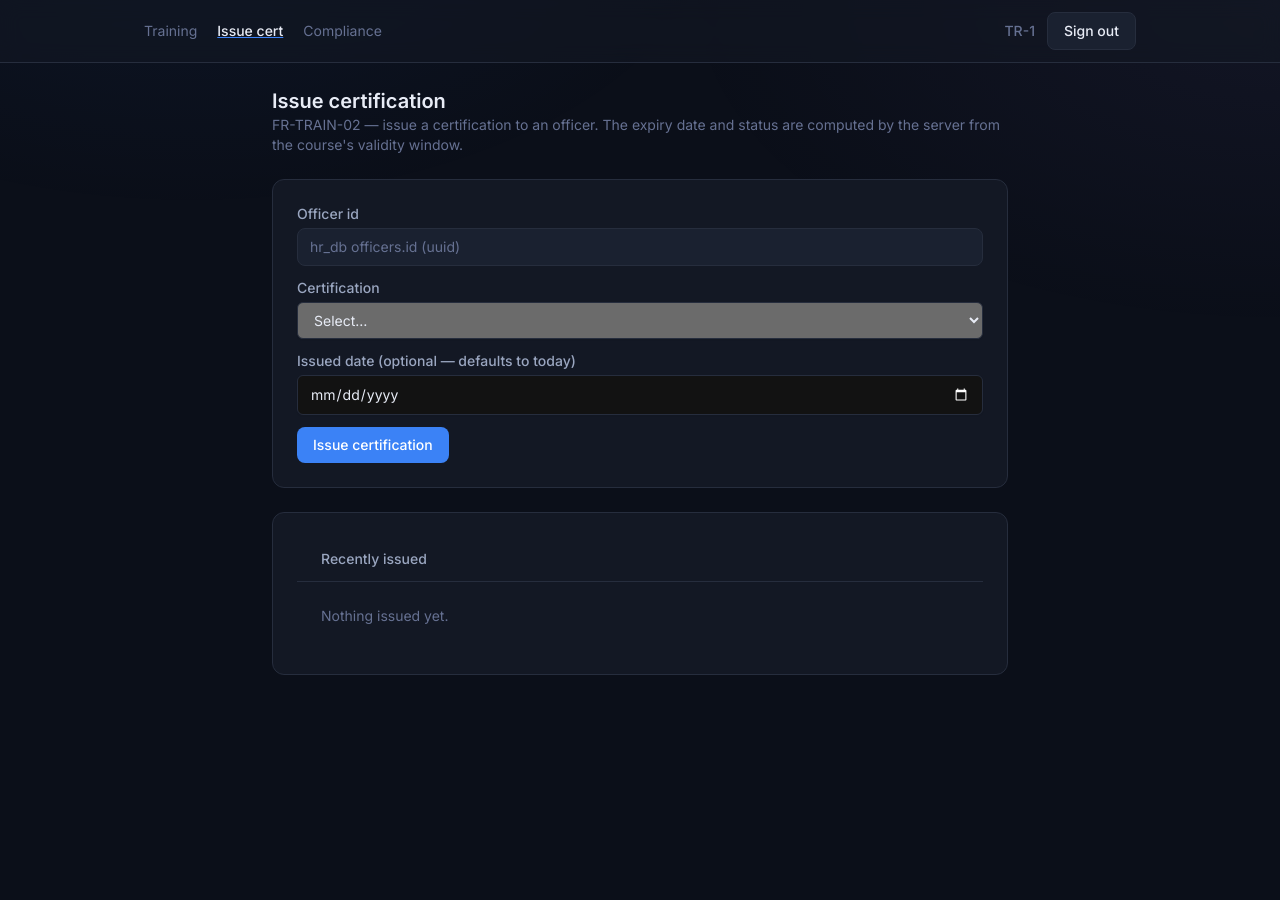
Test: IssueCertificationPage › issues a certification and shows the server-computed expiry + status
Type "0ffffff0-0000-0000-0000-000000000000" into the field labelled "Officer id".
click(640, 247); type("0ffffff0-0000-0000-0000-000000000000")  # box [297, 228, 983, 266]
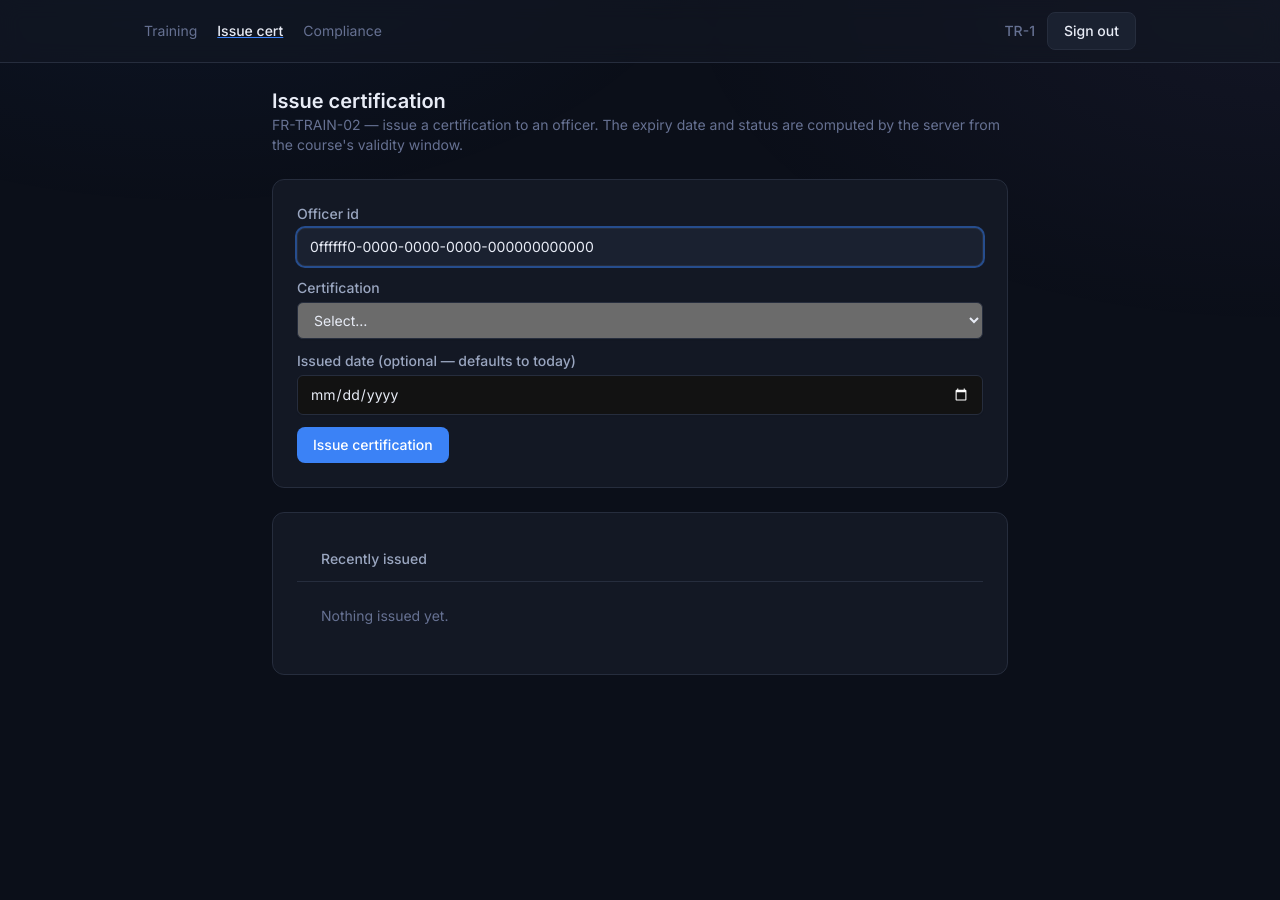
Select "#10 — First Aid" in the dropdown labelled "Certification" at [640, 320], box [297, 302, 983, 339]
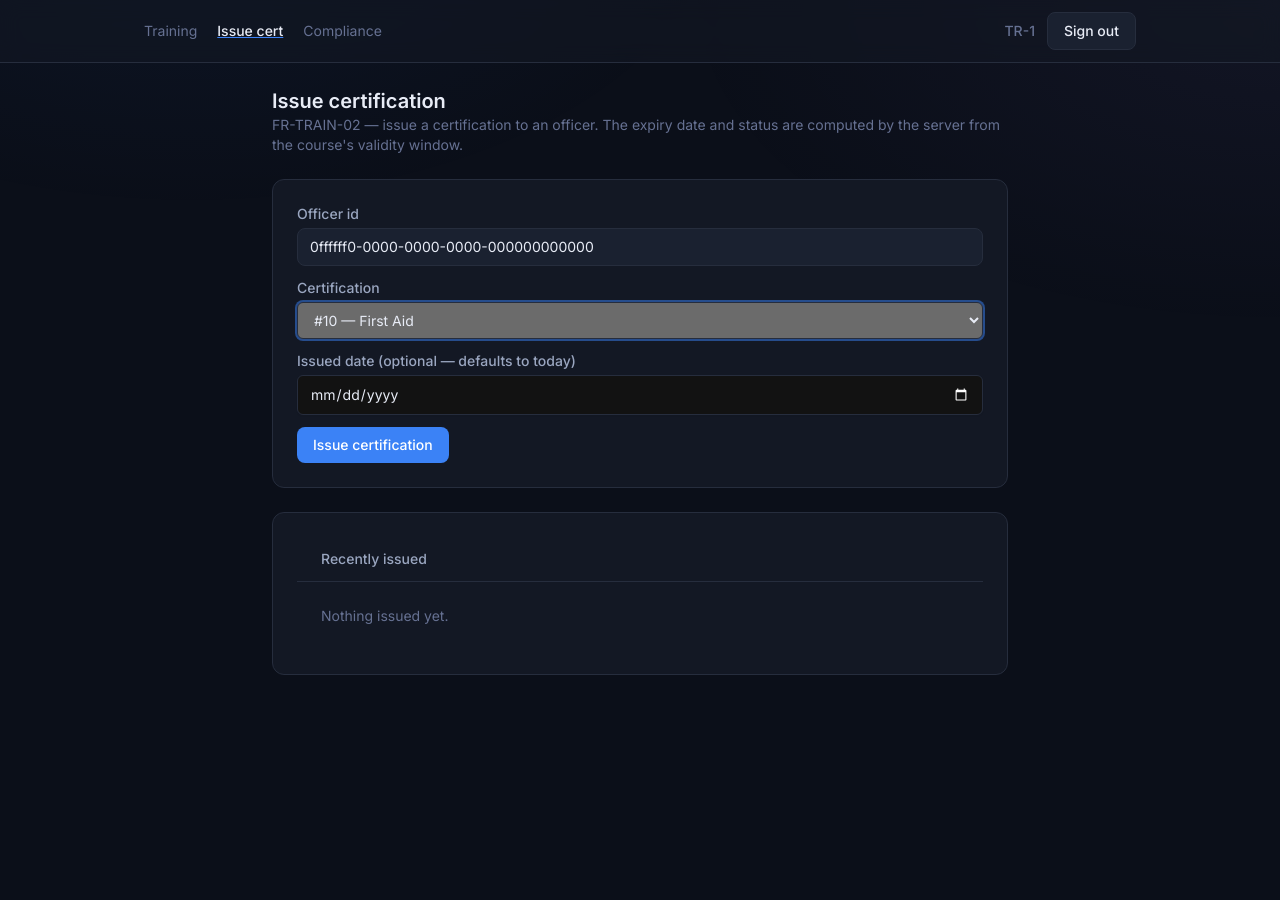
Click the button "Issue certification".
click(373, 445)  # box [297, 427, 449, 463]
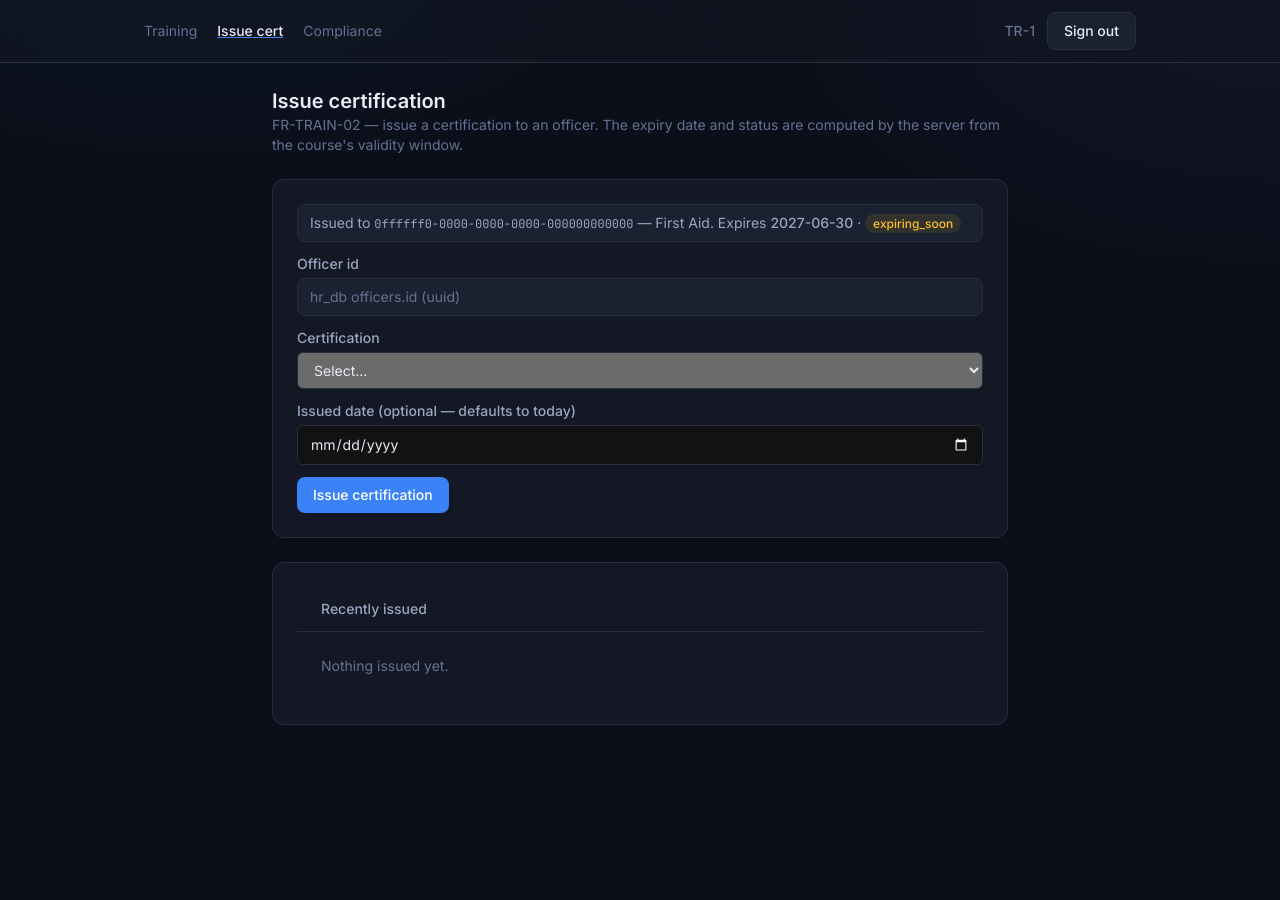
expect the text "Expires" shows "2027-06-30": met, box [770, 214, 853, 231]
expect the text "Expires" shows "expiring_soon": met, box [873, 216, 953, 231]
